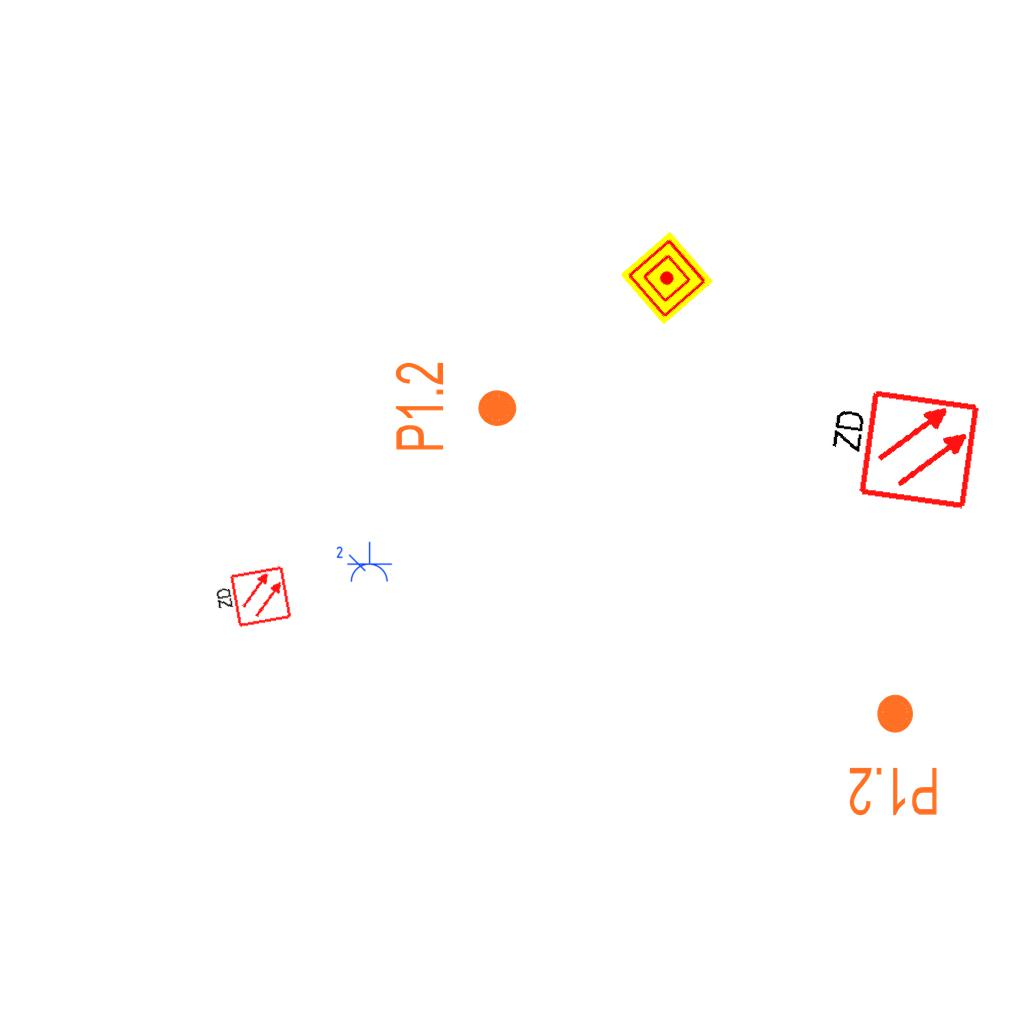Downlight_LED_Einbauleuchten_Flur: (392, 360, 520, 453), (847, 691, 940, 819)
NAM-Nichtautomatischer_Melder: (620, 231, 714, 325)
Schukosteckdose_mehrfach: (333, 541, 393, 585)
ZD_Melder_in_Zwischendecke_mit_Revisionsoeffnung_mind_40_x_40_cm: (818, 381, 982, 516), (210, 564, 293, 634)
